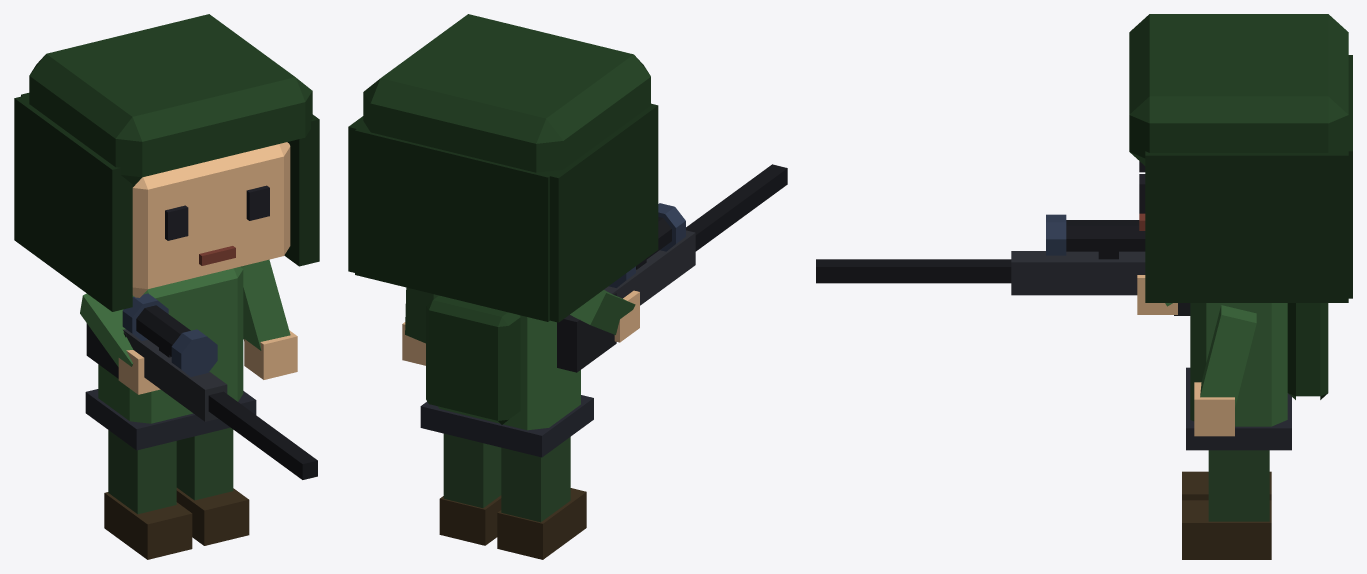
Rendered from sniper.glb.
3 renders of one model, left to right at view 1: azimuth 30°, elevation 25°; view 2: azimuth 150°, elevation 25°; view 3: azimuth 270°, elevation 25°, orthographic. The views are drawn at different scales.
Visible parts, largest first — view 1: sniper_mesh; view 2: sniper_mesh; view 3: sniper_mesh.
Part boxes in pixels (x1=…): sniper_mesh: x1=14, y1=14, x2=319, y2=559; sniper_mesh: x1=348, y1=14, x2=787, y2=559; sniper_mesh: x1=816, y1=14, x2=1352, y2=559.
Size of the model in its own units: 0.615 by 1.3 by 1.32.
Materials: 1 (1 with a texture image).
